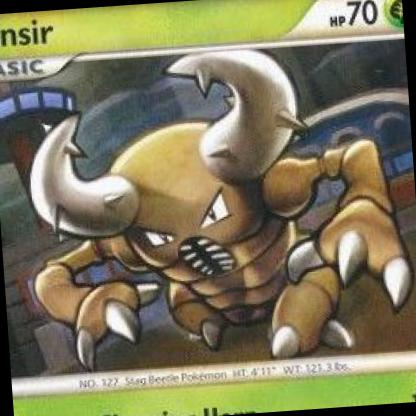Pinsir: (1, 1, 416, 416)
